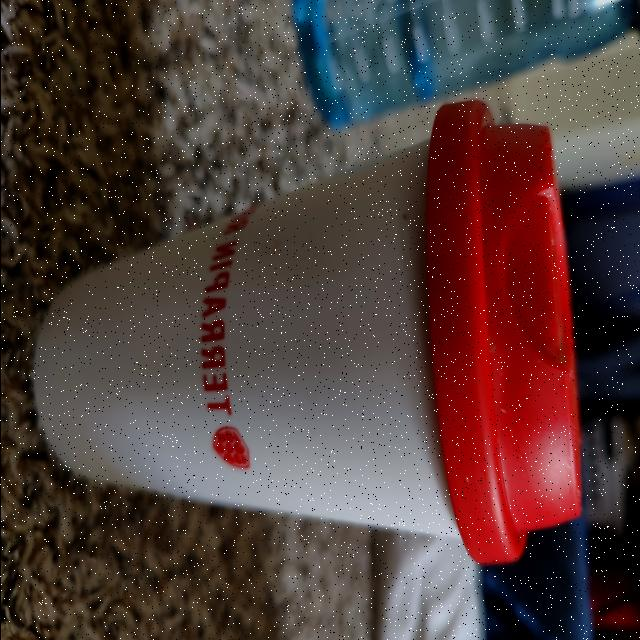mug: (27, 118, 593, 552)
